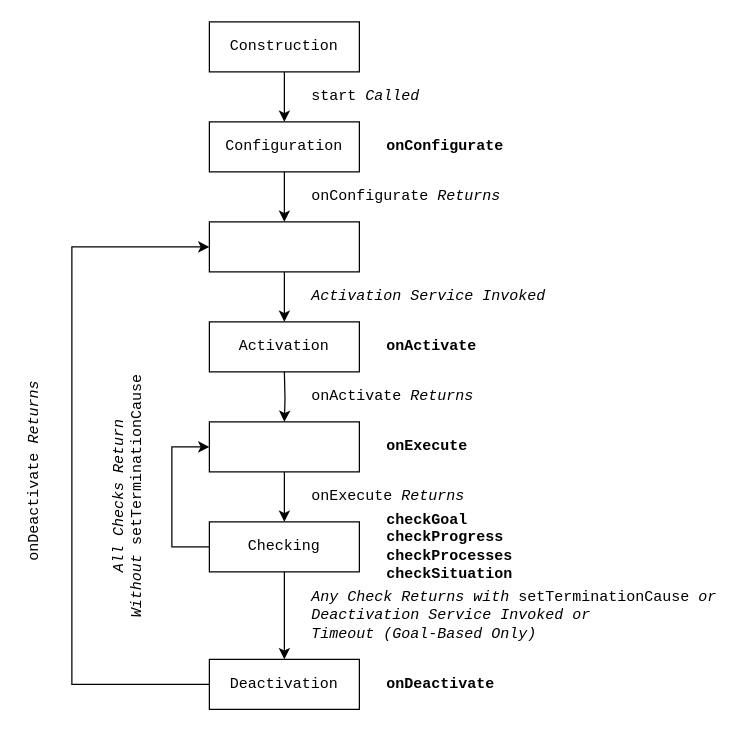
This 755x731 diagram has some shape labels left out. The shapes that lost their labels are listed below. From the top down, each one's box as (x1, y1, x2, y2) in pixels, then its label:
(208, 221, 359, 272): Waiting
(208, 421, 359, 472): Execution
